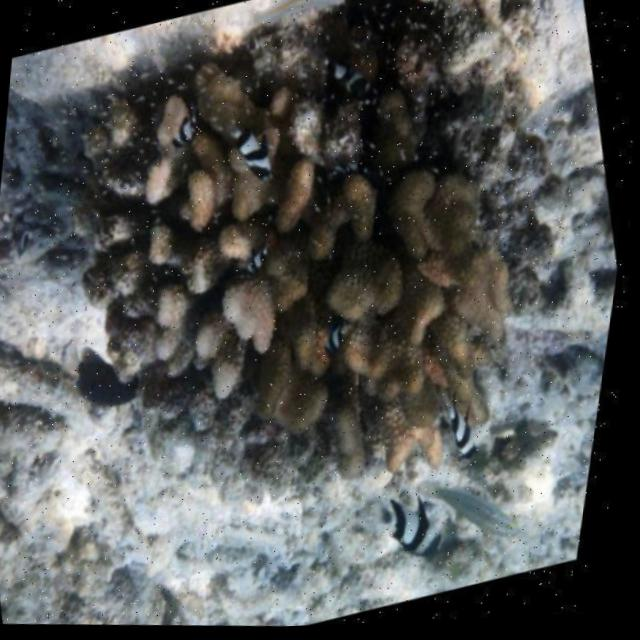Healthy Coral: (16, 9, 569, 560)
